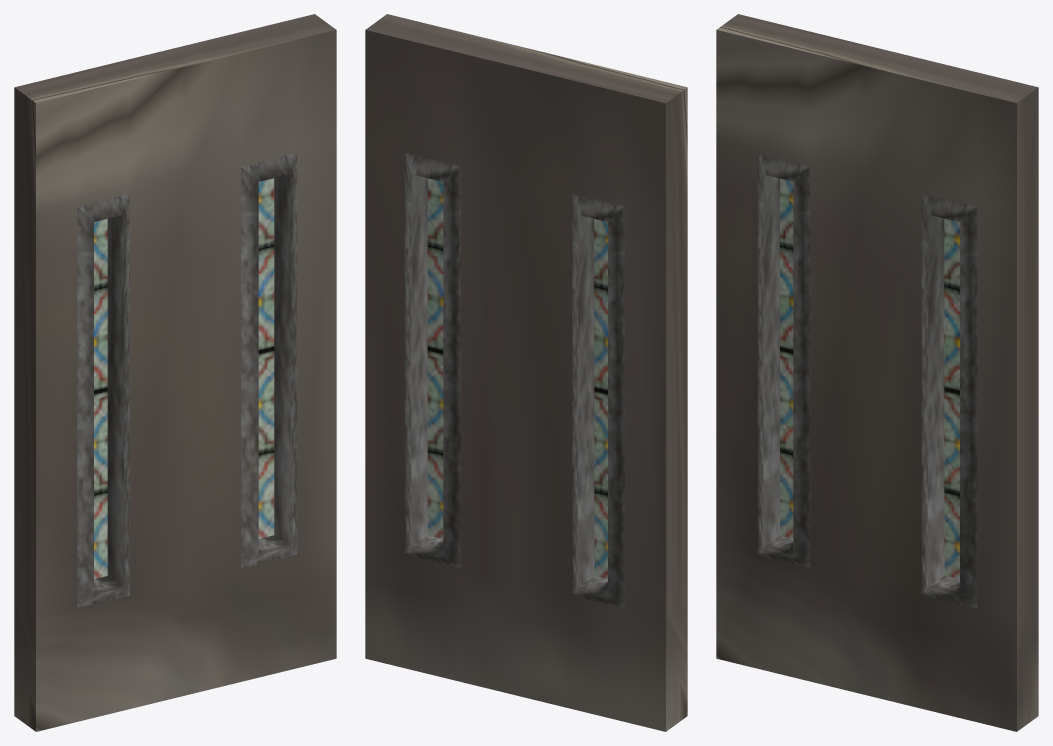
Rendered from wall_tiny_windows.glb.
The picture shows the model from 3 angles, left to right: view 1: azimuth 30°, elevation 25°; view 2: azimuth 150°, elevation 25°; view 3: azimuth 330°, elevation 25°; orthographic projection.
Parts seen in each view (by area): view 1: wall_tiny_windows; view 2: wall_tiny_windows; view 3: wall_tiny_windows.
Boxes of the visible parts, <box> form: wall_tiny_windows: <box>14,14,336,731</box>; wall_tiny_windows: <box>365,14,687,731</box>; wall_tiny_windows: <box>716,14,1038,731</box>.
Bounding box in the file's own units: 4 × 8 × 0.75.
3 materials, 3 textured.
